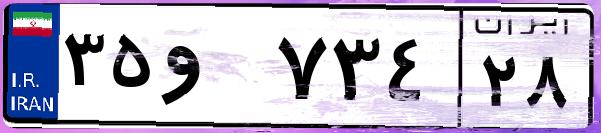2: (475, 38, 525, 113)
3: (330, 28, 385, 110), (57, 26, 110, 100)
4: (385, 28, 445, 110)
5: (110, 28, 158, 98)
7: (270, 28, 330, 110)
8: (525, 38, 570, 115)
و: (158, 20, 270, 120)
